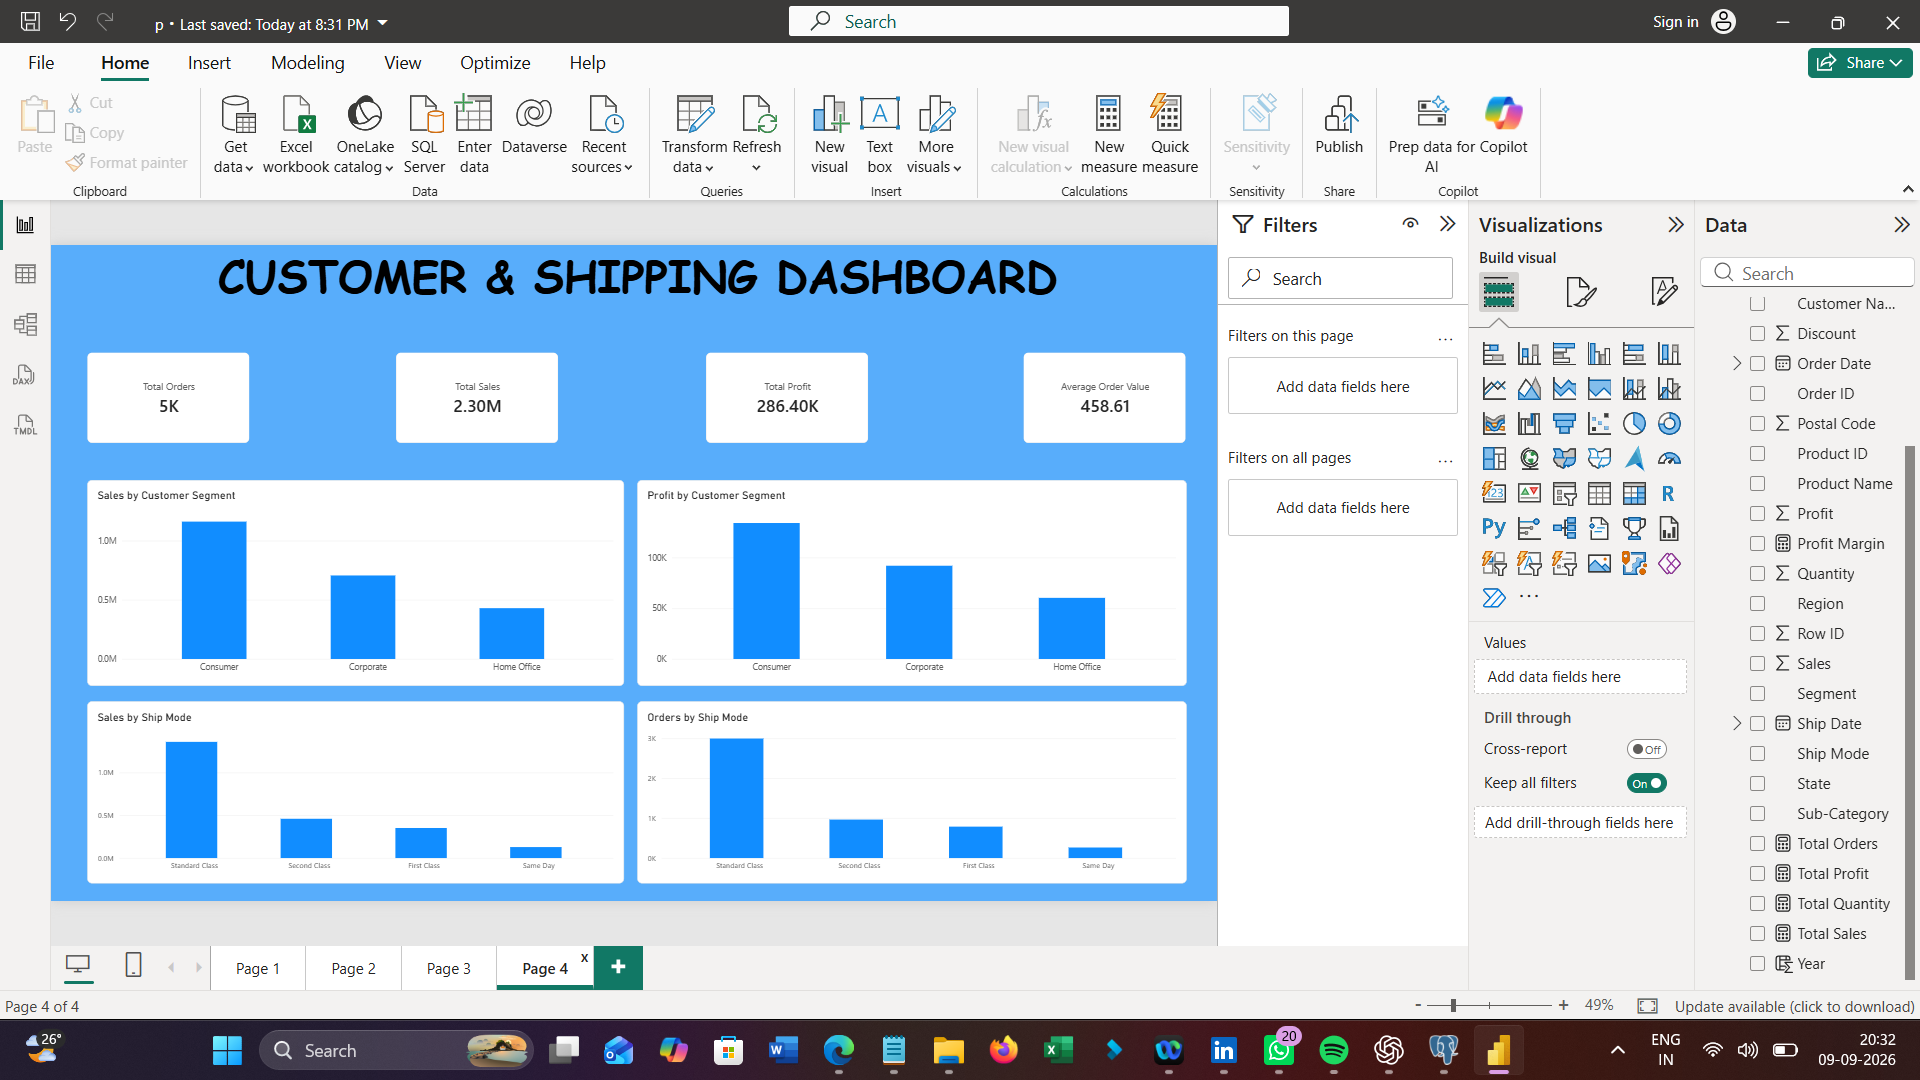

The dashboard page shown, as its layout file describes it:
{"tool":"powerbi","page":{"name":"Page 4","canvas":[1920,1080],"ordinal":3},"visuals":[{"type":"textbox","box":[9.3,0,1911.6,137.2],"z":0},{"type":"cardVisual","fields":{"Data":["superstore.Total Orders"]},"box":[60.5,176.7,267,149],"z":1000},{"type":"cardVisual","fields":{"Data":["superstore.Total Sales"]},"box":[567.4,176.7,267,149],"z":2000},{"type":"cardVisual","fields":{"Data":["superstore.Total Profit"]},"box":[1079.1,176.7,267,149],"z":3000},{"type":"cardVisual","fields":{"Data":["superstore.Average Order Value"]},"box":[1602.3,176.7,267,149],"z":4000},{"type":"clusteredColumnChart","title":"Sales by Customer Segment","fields":{"Category":["superstore.Segment"],"Y":["superstore.Total Sales"]},"box":[60.5,386,883.7,339.5],"z":5000},{"type":"clusteredColumnChart","title":"Profit by Customer Segment","fields":{"Category":["superstore.Segment"],"Y":["superstore.Total Profit"]},"box":[965.1,386,904.7,339.5],"z":6000},{"type":"clusteredColumnChart","title":"Sales by Ship Mode","fields":{"Category":["superstore.Ship Mode"],"Y":["superstore.Total Sales"]},"box":[60.5,751.2,883.7,300],"z":7000},{"type":"clusteredColumnChart","title":"Orders by Ship Mode","fields":{"Category":["superstore.Ship Mode"],"Y":["superstore.Total Orders"]},"box":[965.1,751.2,904.7,300],"z":8000}]}

Visuals, with their boxes on the page's 1920x1080 design canvas (x1, y1, x2, y2). These are canvas units, not pixel positions in the 1920x1080 screenshot, which may show the page scaled, cropped or inside an application window:
textbox: [left=9, top=0, right=1921, bottom=137]
cardVisual - superstore.Total Orders: [left=60, top=177, right=328, bottom=326]
cardVisual - superstore.Total Sales: [left=567, top=177, right=834, bottom=326]
cardVisual - superstore.Total Profit: [left=1079, top=177, right=1346, bottom=326]
cardVisual - superstore.Average Order Value: [left=1602, top=177, right=1869, bottom=326]
"Sales by Customer Segment" clusteredColumnChart: [left=60, top=386, right=944, bottom=726]
"Profit by Customer Segment" clusteredColumnChart: [left=965, top=386, right=1870, bottom=726]
"Sales by Ship Mode" clusteredColumnChart: [left=60, top=751, right=944, bottom=1051]
"Orders by Ship Mode" clusteredColumnChart: [left=965, top=751, right=1870, bottom=1051]
